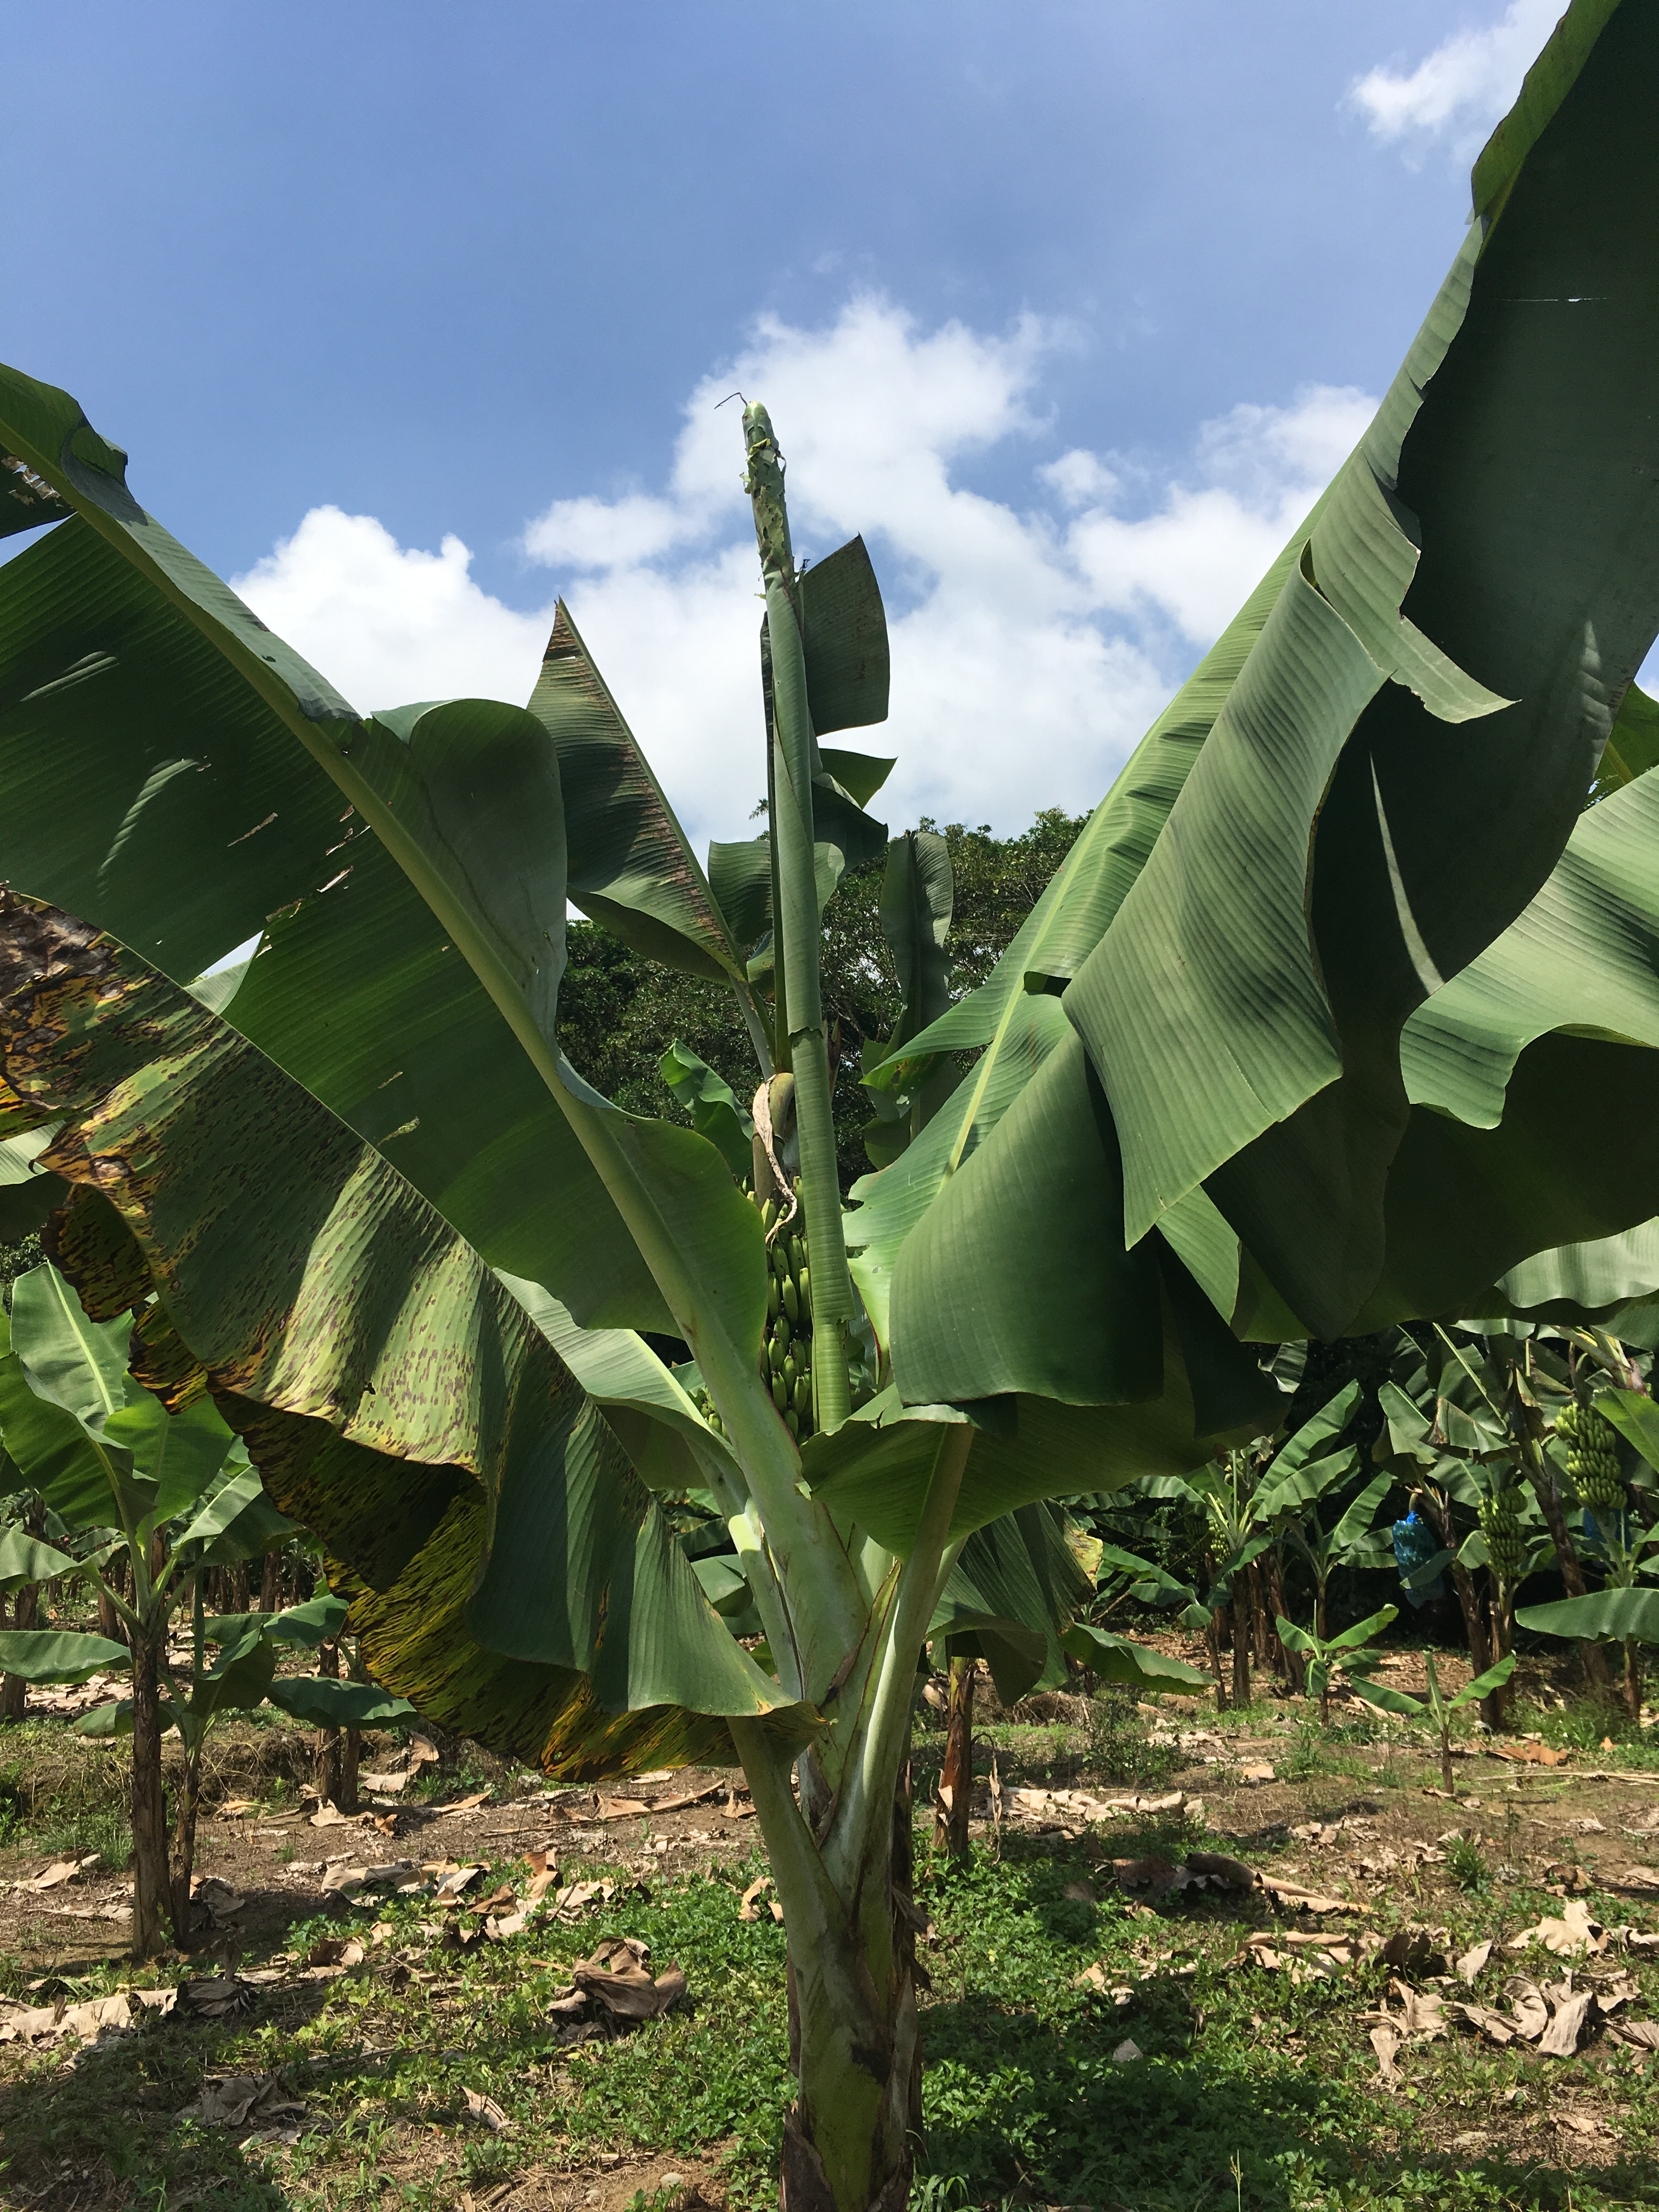candleleafs: (728, 392, 871, 1390)
